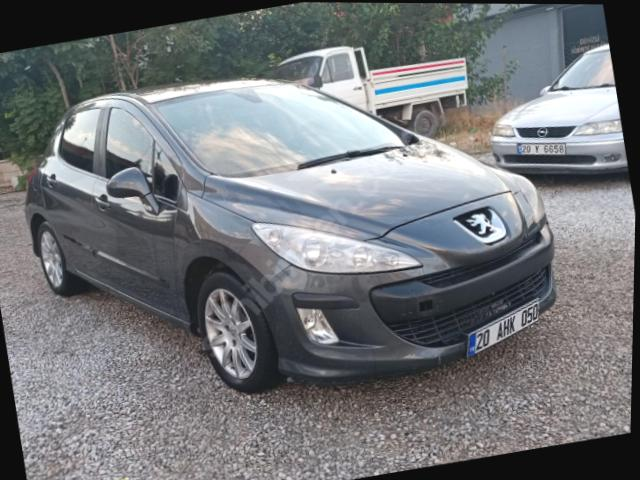plaka: (466, 299, 538, 356), (516, 143, 565, 154)
